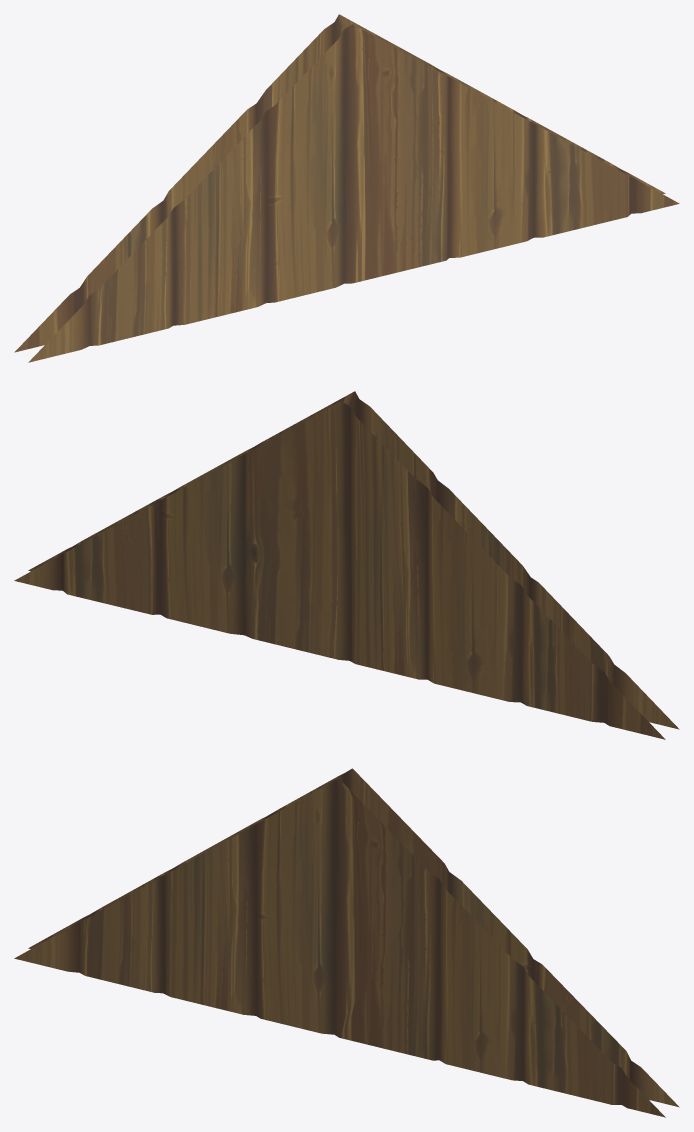
Rendered from SM_MOD_wall_triangle_planks_vert_town.fbx.
The picture shows the model from 3 angles, top to bottom: view 1: azimuth 30°, elevation 25°; view 2: azimuth 150°, elevation 25°; view 3: azimuth 330°, elevation 25°; orthographic projection.
Parts seen in each view (by area): view 1: SM_MOD_wall_triangle_planks_vert_town; view 2: SM_MOD_wall_triangle_planks_vert_town; view 3: SM_MOD_wall_triangle_planks_vert_town.
Boxes of the visible parts, x1,y1,x2,y2 form: SM_MOD_wall_triangle_planks_vert_town: (14,14,679,362); SM_MOD_wall_triangle_planks_vert_town: (14,391,679,739); SM_MOD_wall_triangle_planks_vert_town: (14,768,679,1117).
Size of the model in its own units: 342 by 130 by 13.67.
